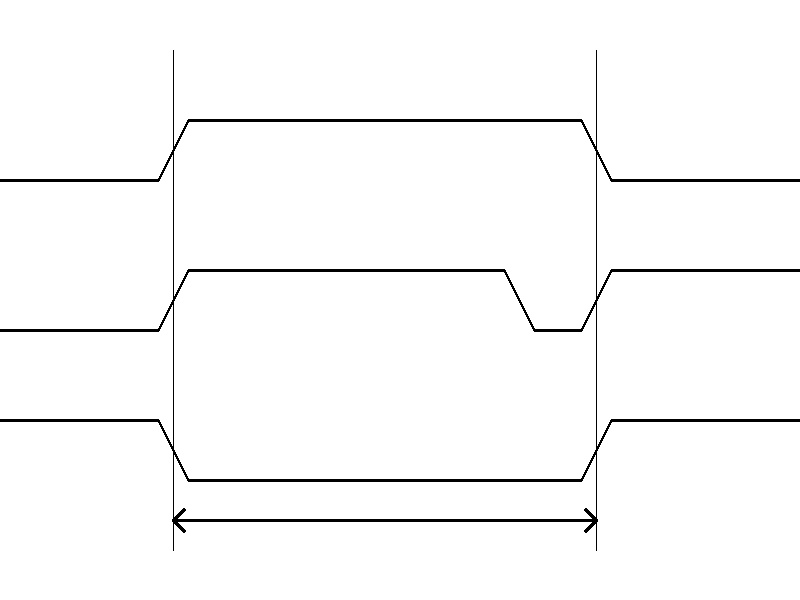double_arrow: (173, 505, 596, 535)
